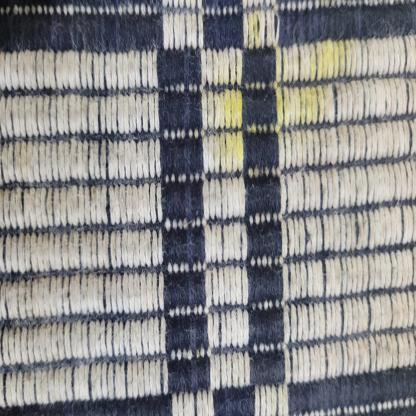spot: (196, 10, 371, 160)
